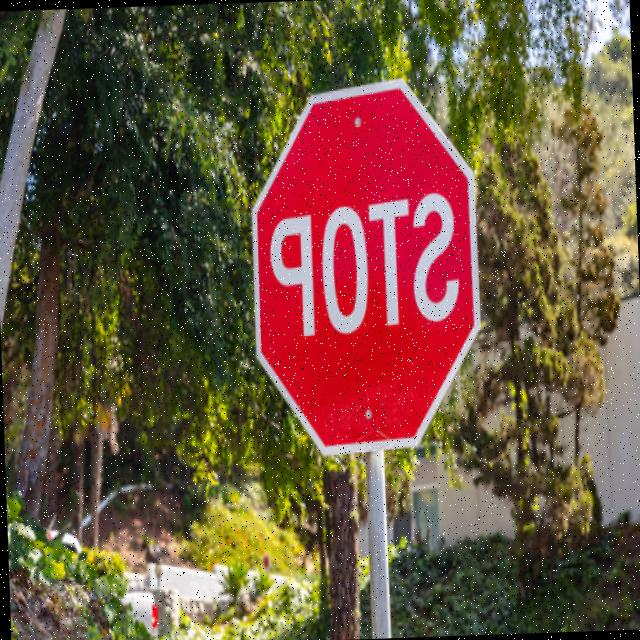stop: (240, 78, 486, 462)
